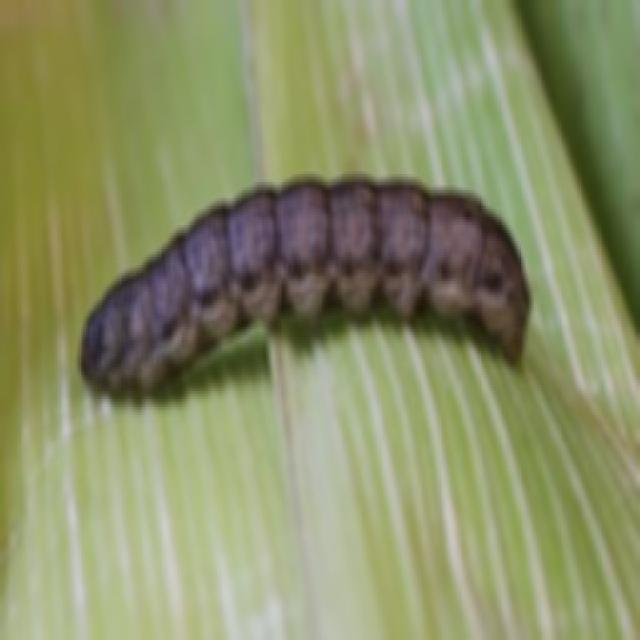black cutworm: (77, 174, 531, 380)
